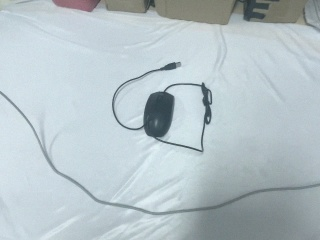box: (151, 1, 242, 26), (242, 1, 308, 24), (103, 1, 153, 14)
mouse: (142, 91, 176, 138)
